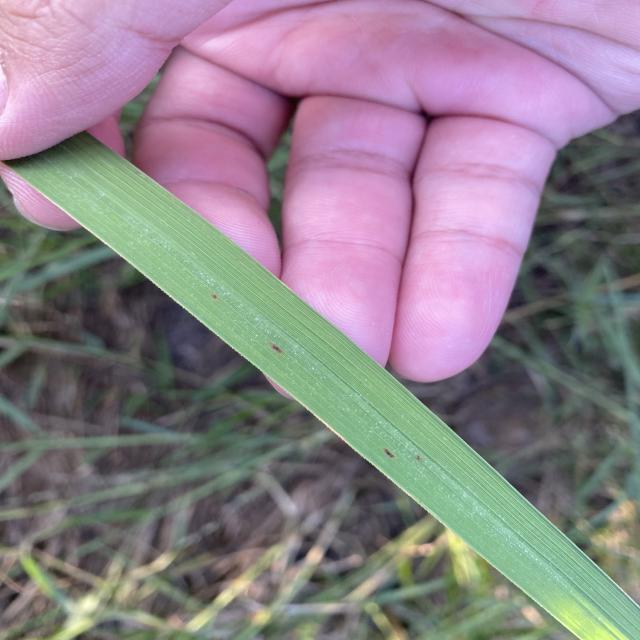Dom nau: (271, 344, 282, 353), (384, 449, 394, 458), (212, 295, 217, 299)
